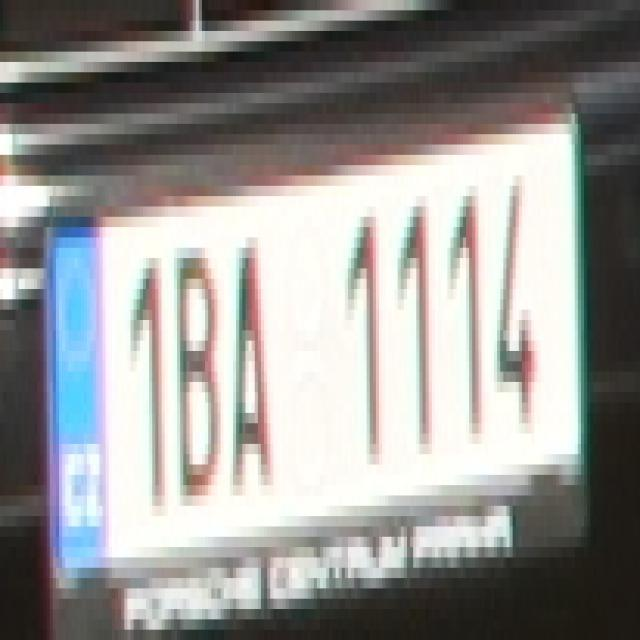1: (450, 175, 488, 434), (130, 248, 168, 506), (394, 206, 432, 444), (351, 206, 385, 444)
4: (494, 165, 534, 444)
A: (226, 227, 276, 475)
B: (171, 238, 217, 496)
